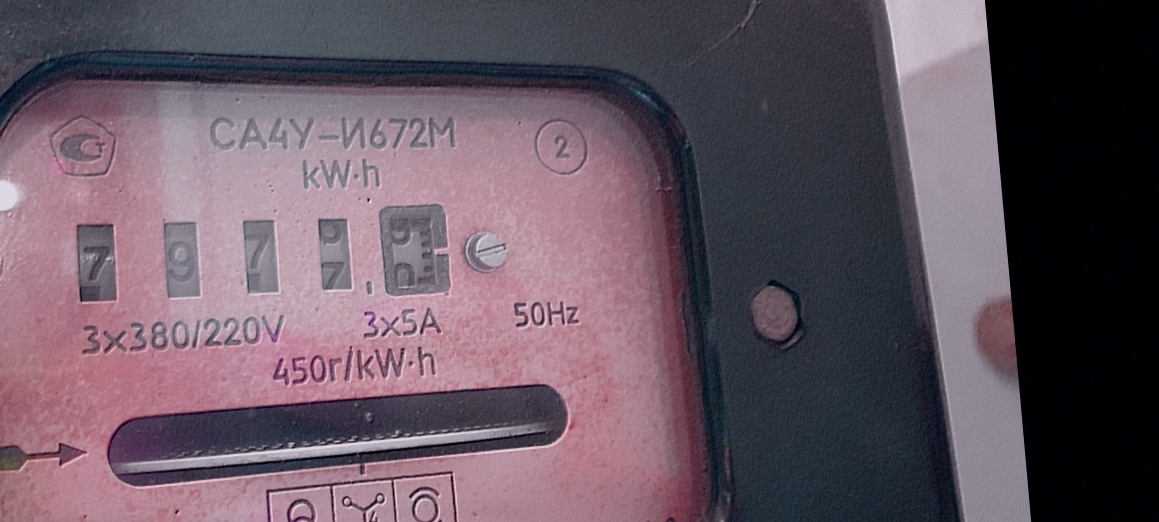0: (389, 259, 415, 290)
7: (76, 240, 113, 288), (316, 252, 349, 296), (241, 230, 273, 273)
9: (162, 237, 197, 287), (384, 215, 417, 250)
screen: (57, 179, 468, 341)
